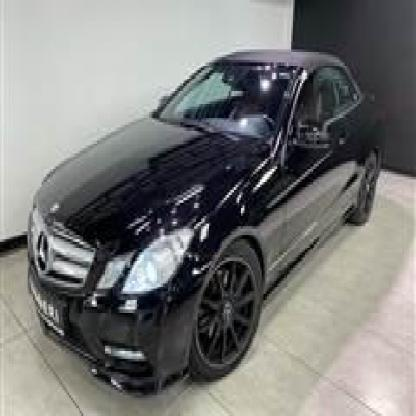Car: (12, 42, 383, 392)
